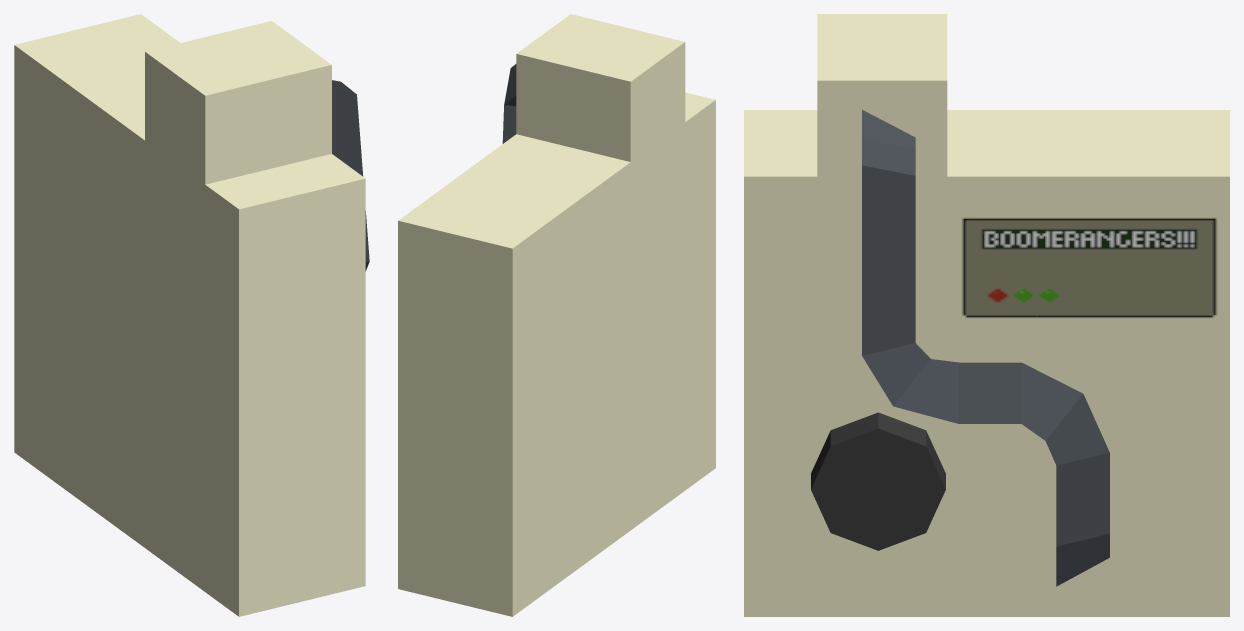
File: electricBox.fbx
3 renders of one model, left to right at view 1: azimuth 30°, elevation 25°; view 2: azimuth 150°, elevation 25°; view 3: azimuth 270°, elevation 25°, orthographic. The views are drawn at different scales.
Visible parts, largest first — view 1: Cube.005; view 2: Cube.005; view 3: Cube.005.
Part boxes in pixels (left/top/right/bottom): Cube.005: left=14, top=14, right=369, bottom=616; Cube.005: left=398, top=14, right=715, bottom=616; Cube.005: left=744, top=14, right=1229, bottom=616.
Bounding box in the file's own units: 95.1 × 244 × 200.
Materials: 1 (1 with a texture image).
